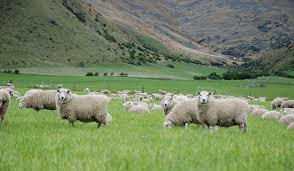sheep: (52, 88, 114, 132), (195, 87, 249, 134), (159, 93, 205, 131), (20, 86, 61, 117), (120, 95, 153, 116), (258, 107, 294, 126), (103, 86, 142, 100), (1, 85, 10, 122), (270, 96, 286, 109)
